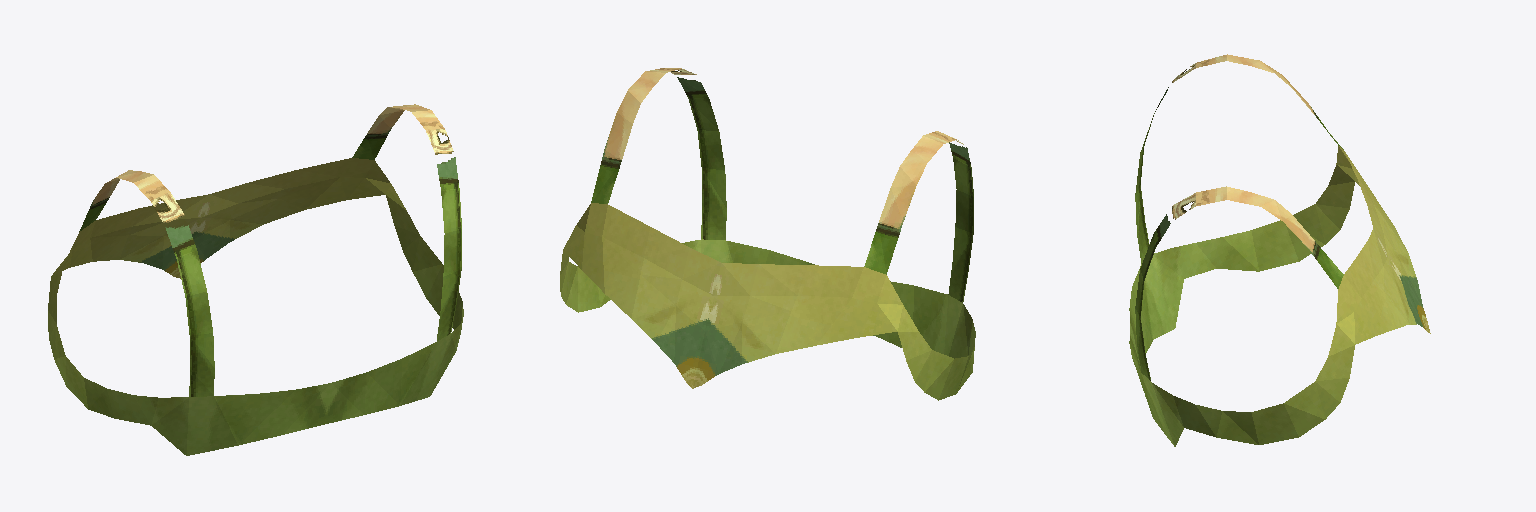
3 views of the same model, side by side, from view 1: azimuth 30°, elevation 25°; view 2: azimuth 150°, elevation 25°; view 3: azimuth 270°, elevation 25° (orthographic).
Visible parts, largest first — view 1: skinSource0DME; view 2: skinSource0DME; view 3: skinSource0DME.
Part boxes in pixels (x1,y1,x2,y2): skinSource0DME: (48, 104, 463, 455); skinSource0DME: (560, 68, 975, 400); skinSource0DME: (1129, 54, 1430, 446).
Bounding box in the file's own units: 20.18 × 13.53 × 13.96.
Materials: 1 (1 with a texture image).